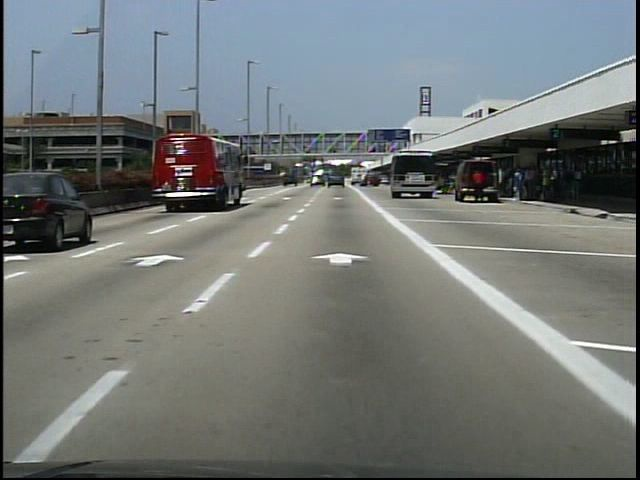person: (472, 164, 488, 205)
